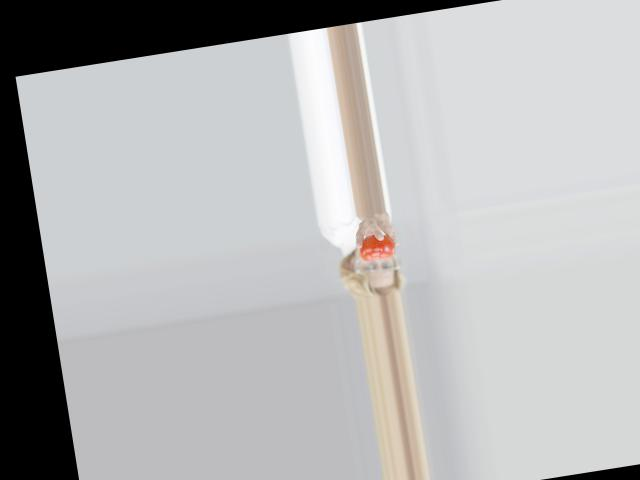tomato: (356, 232, 395, 261)
